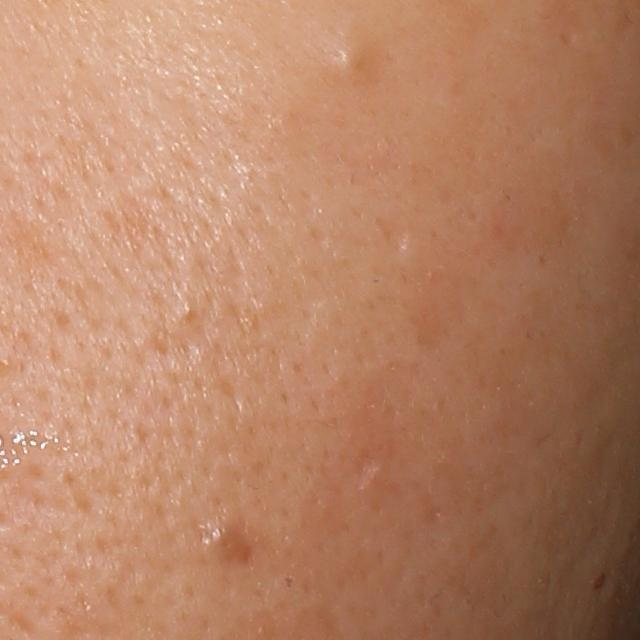atrophic_scar: (375, 217, 408, 254)
comedo: (334, 43, 375, 79), (178, 301, 199, 322)
